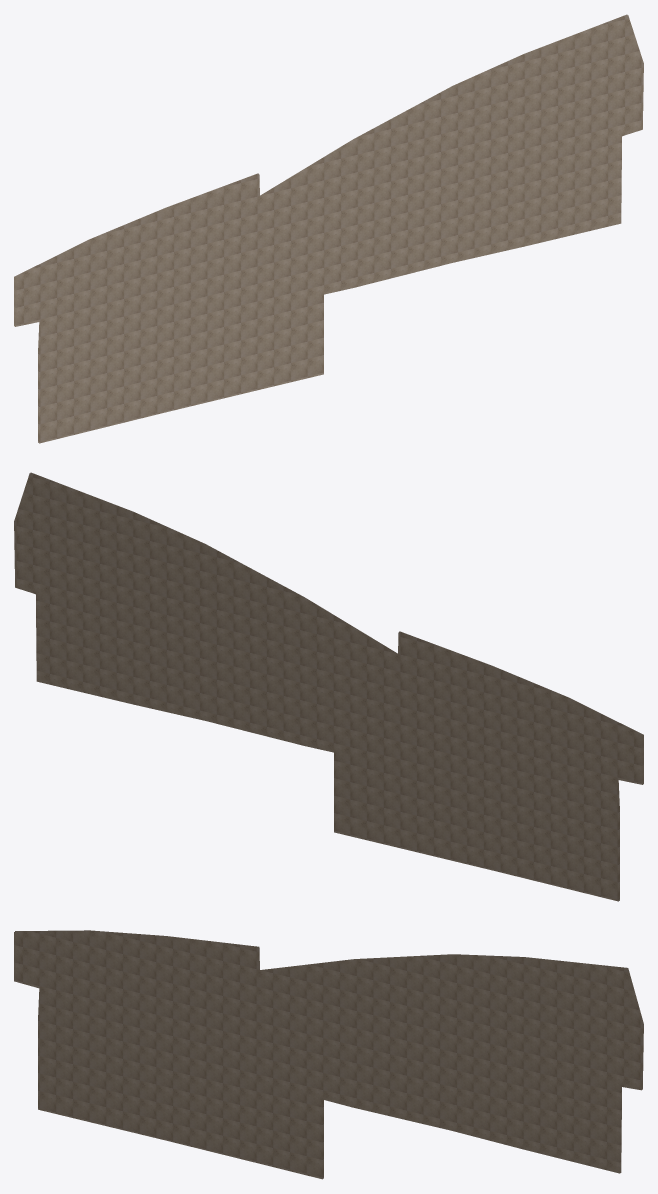
Rendered from floor_3.obj.
The picture shows the model from 3 angles, top to bottom: view 1: azimuth 30°, elevation 25°; view 2: azimuth 150°, elevation 25°; view 3: azimuth 330°, elevation 25°; orthographic projection.
Parts seen in each view (by area): view 1: floor_3; view 2: floor_3; view 3: floor_3.
Boxes of the visible parts, x1=… form: floor_3: x1=14, y1=14, x2=643, y2=443; floor_3: x1=14, y1=472, x2=643, y2=901; floor_3: x1=14, y1=930, x2=643, y2=1179.
Size of the model in its own units: 37.68 by 16.32 by 0.1.
Materials: 1 (1 with a texture image).
